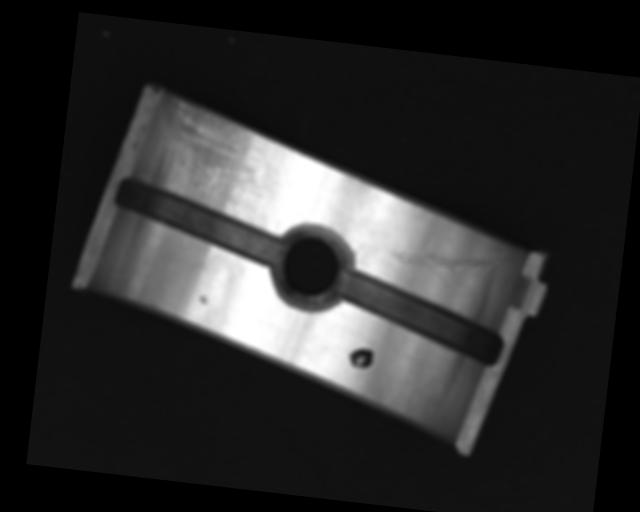blot: (346, 346, 375, 371)
bruise: (197, 295, 210, 304)
gap: (331, 268, 511, 370), (108, 176, 287, 266)
hole: (267, 221, 356, 310)
nick: (384, 238, 507, 297)
scratch: (152, 98, 273, 213)
